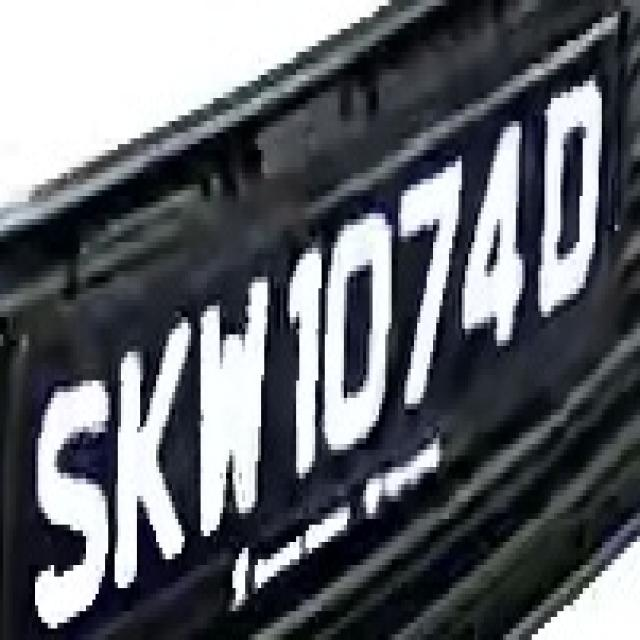0: (318, 202, 398, 473)
1: (283, 224, 328, 502)
4: (465, 115, 541, 375)
7: (392, 156, 465, 421)
D: (535, 69, 608, 300)
K: (112, 323, 195, 600)
S: (28, 369, 118, 623)
W: (191, 266, 271, 560)
